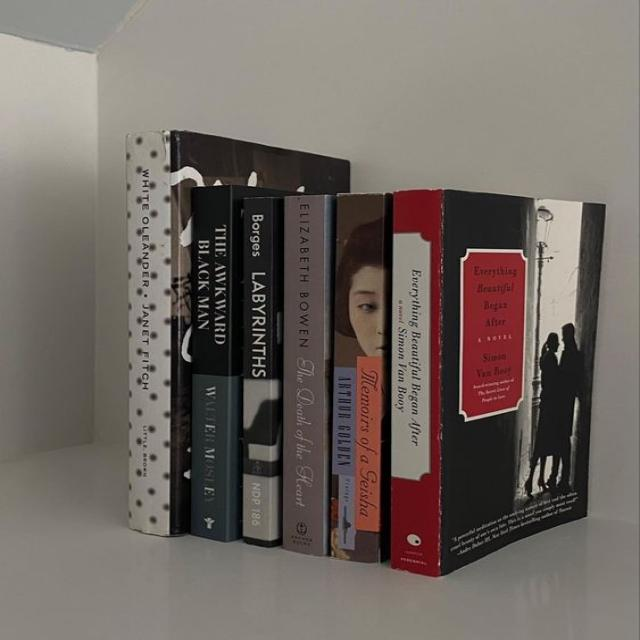book: (190, 184, 288, 541), (390, 190, 443, 575), (330, 194, 385, 563), (282, 195, 335, 555), (126, 132, 172, 536), (242, 198, 288, 545)
